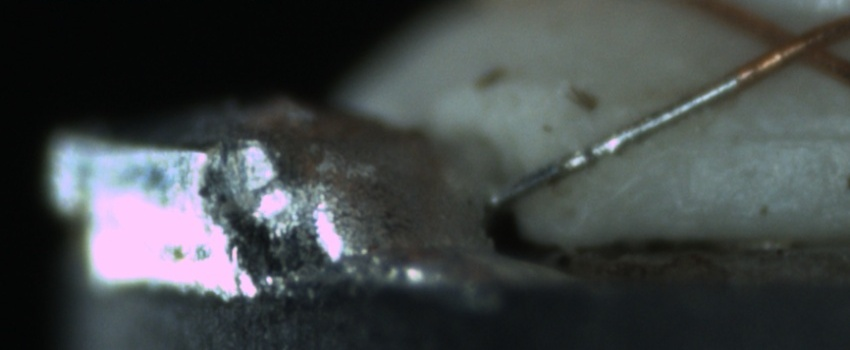CL: (746, 9, 843, 78)
DL: (704, 111, 850, 169)
TS: (484, 73, 740, 208)
